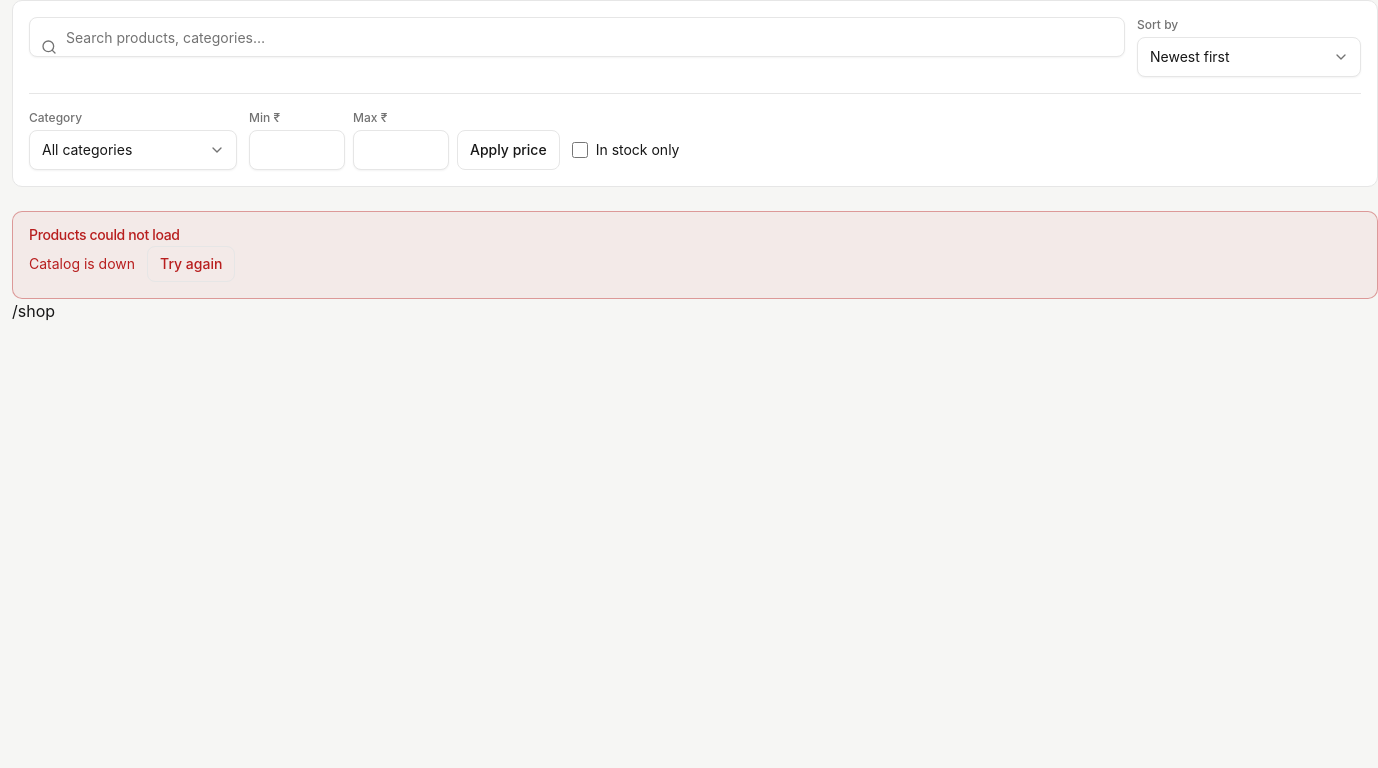
CatalogView › shows the API error and retries successfully
Check: the text "Catalog is down" is shown, box [29,254,135,274]
Check: the heading "Products could not load" is shown, box [29,226,180,243]
Click the button "Try again": point(191, 264) [147,246,235,282]
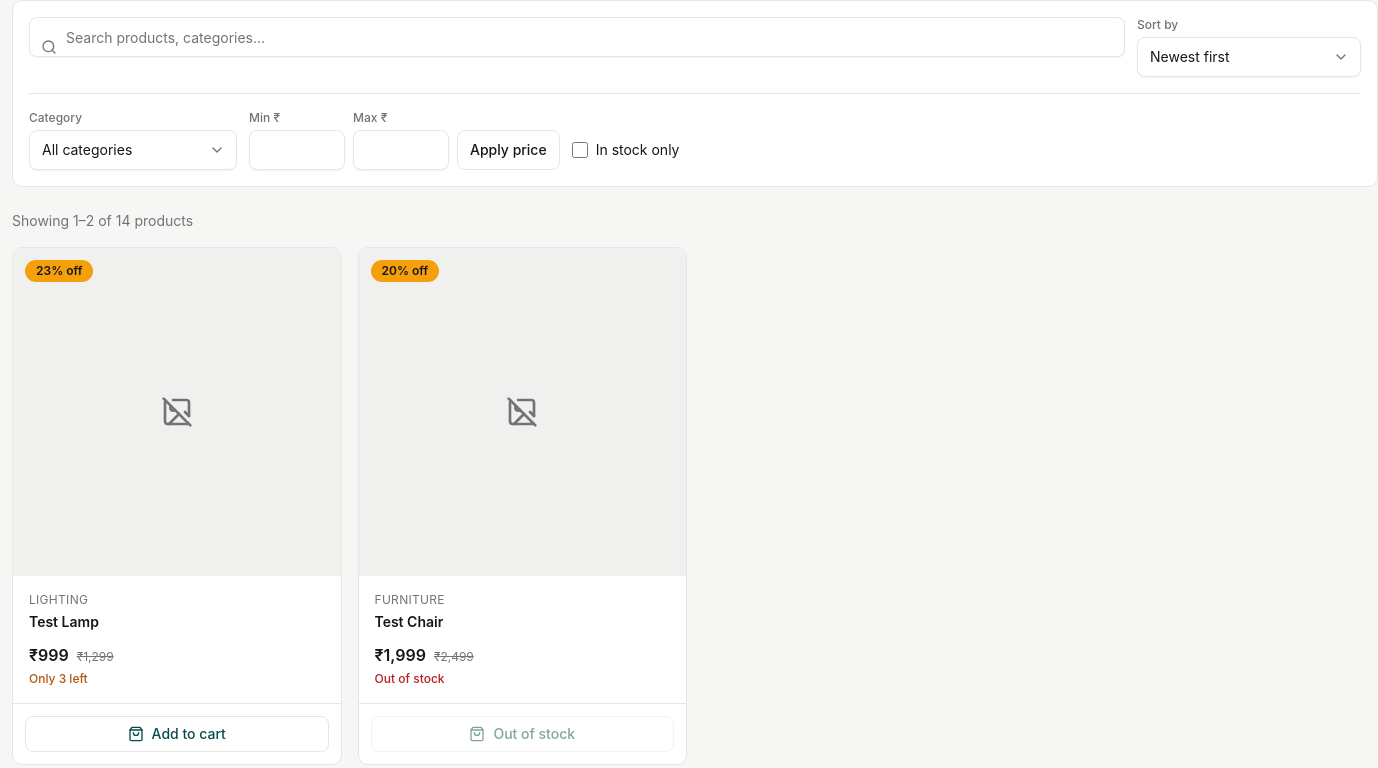
Check: the heading "Test Lamp" is shown, box [29,612,99,630]
